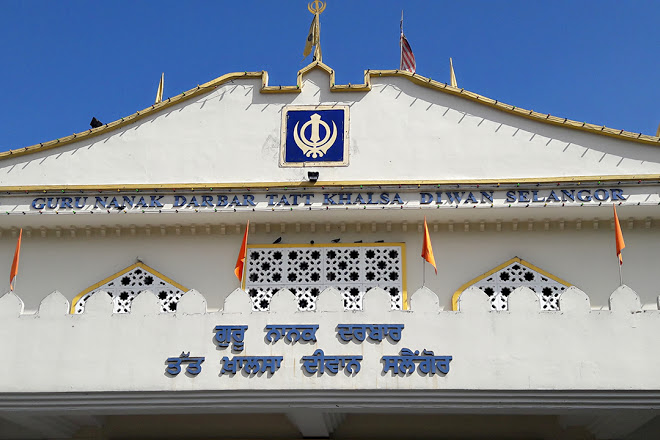Gurdwara: (6, 3, 653, 404)
